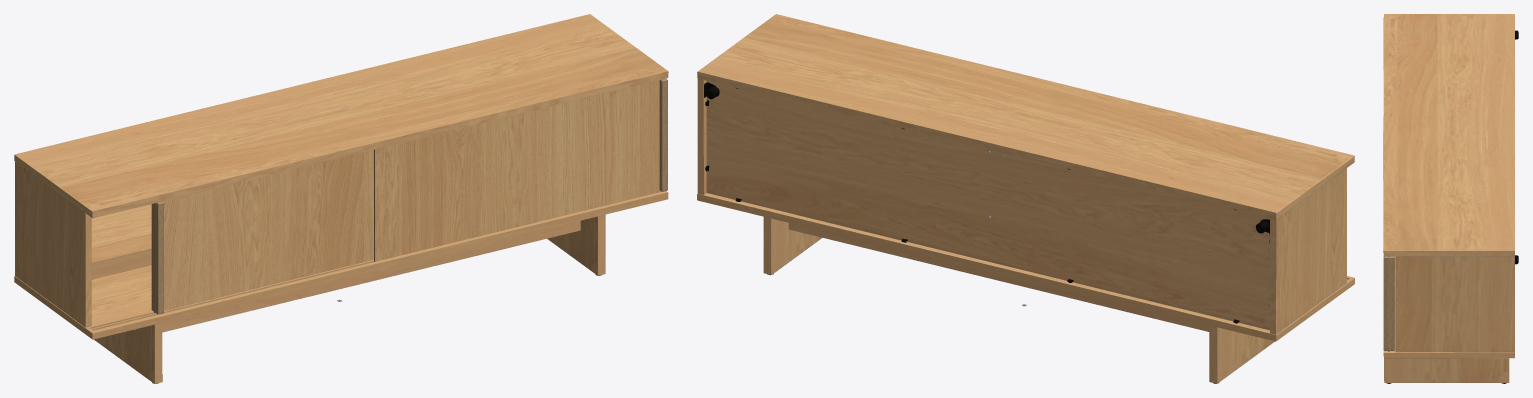
The model's file is stockholm-2025-mueble-tv-puertas-correderas-chapa-roble.glb.
3 views of the same model, side by side, from view 1: azimuth 30°, elevation 25°; view 2: azimuth 150°, elevation 25°; view 3: azimuth 270°, elevation 25° (orthographic). The views are drawn at different scales.
Parts seen in each view (by area): view 1: ASY_ART_40586508_S01_NV01, ASY_LPT02_40586508_S01_NV01, ASY_LPT01_40586508_S01_NV01; view 2: ASY_ART_40586508_S01_NV01; view 3: ASY_ART_40586508_S01_NV01, ASY_LPT02_40586508_S01_NV01.
Part boxes in pixels (x1,y1,x2,y2): ASY_ART_40586508_S01_NV01: (14, 14, 668, 383); ASY_LPT02_40586508_S01_NV01: (374, 78, 667, 261); ASY_LPT01_40586508_S01_NV01: (151, 150, 373, 314); ASY_ART_40586508_S01_NV01: (697, 14, 1354, 383); ASY_ART_40586508_S01_NV01: (1383, 14, 1518, 383); ASY_LPT02_40586508_S01_NV01: (1383, 256, 1394, 351).
Bounding box in the file's own units: 1.79 × 0.5621 × 0.4323.
3 materials, 3 textured.
